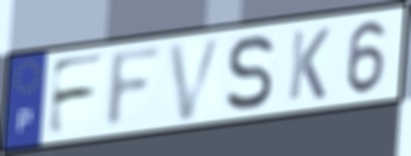6: (345, 18, 389, 97)
F: (102, 42, 167, 133), (45, 51, 109, 140)
K: (286, 25, 333, 103)
S: (223, 32, 277, 113)
V: (165, 33, 227, 125)
